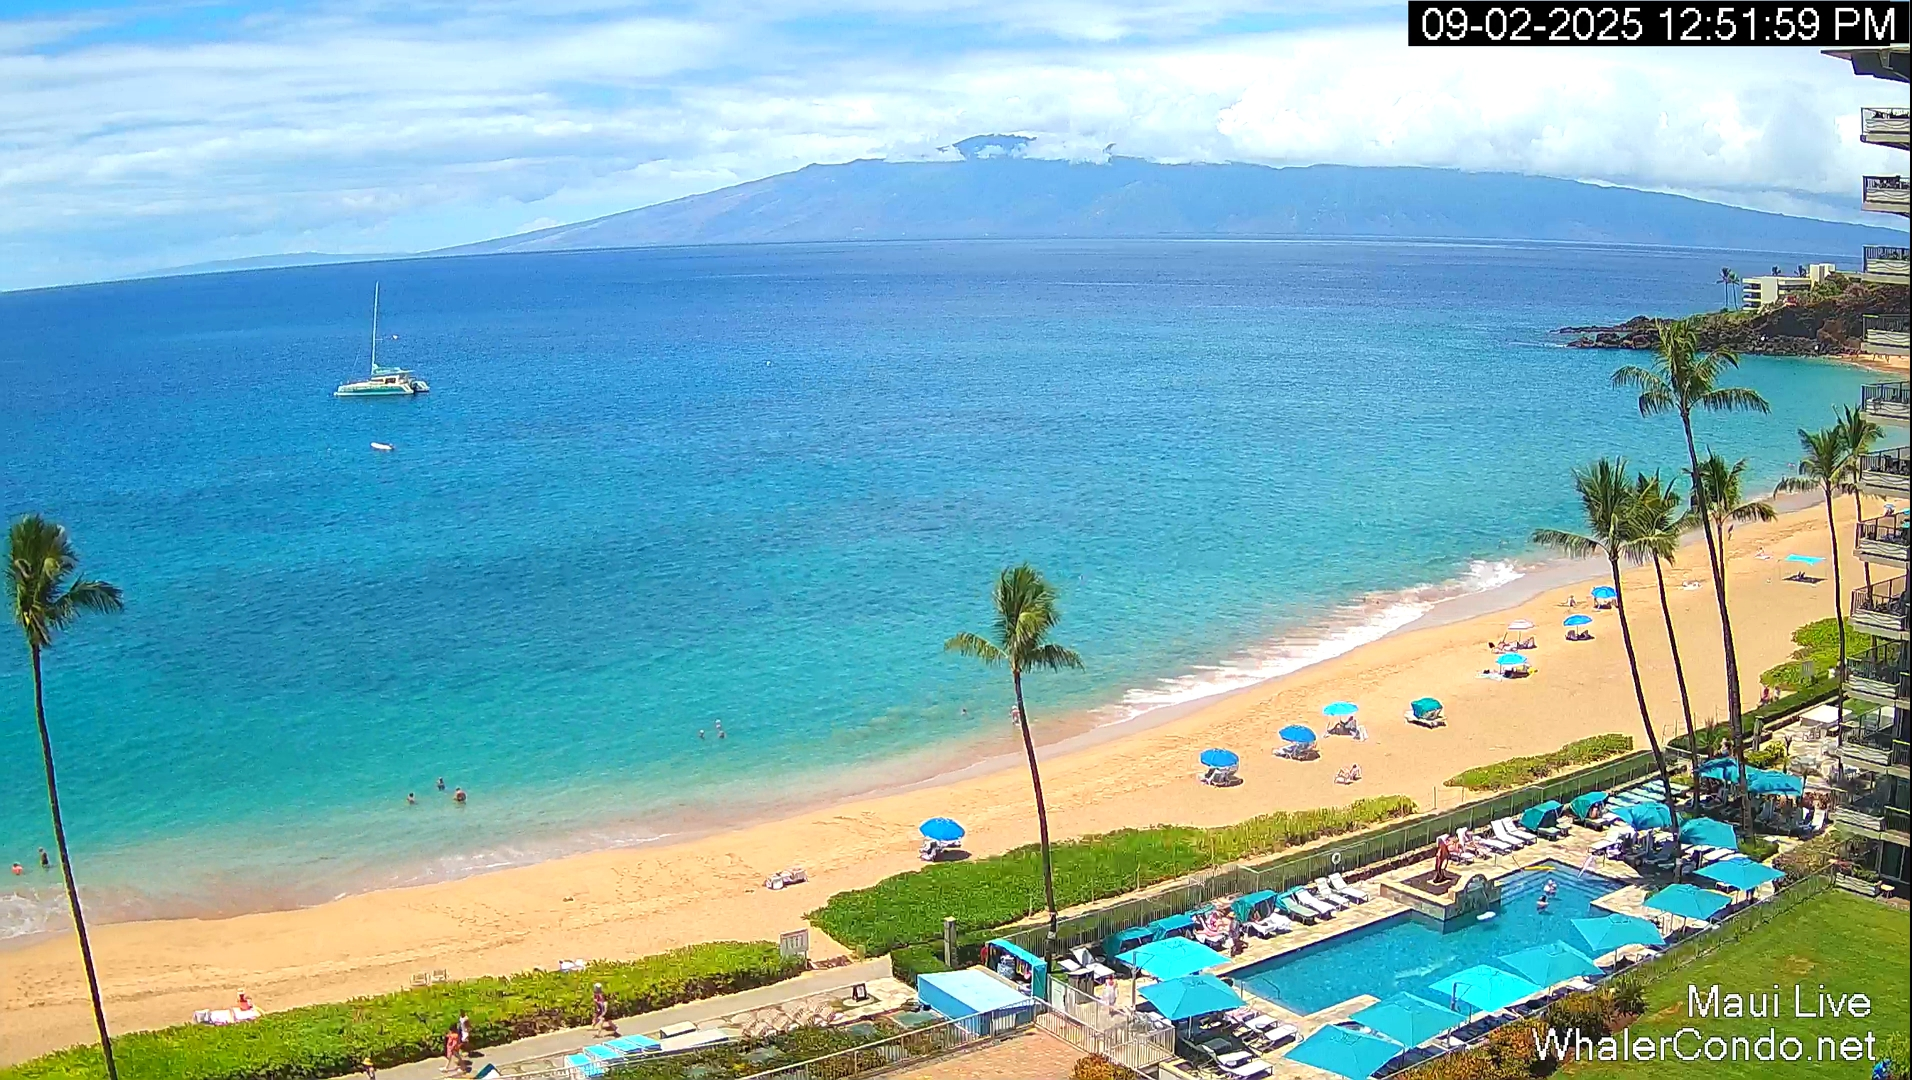boat: (333, 280, 430, 398)
person: (591, 992, 621, 1038), (440, 1024, 460, 1073), (457, 1009, 471, 1047), (236, 988, 253, 1011), (362, 1056, 376, 1080), (1536, 895, 1550, 914), (38, 847, 49, 868), (453, 787, 466, 803), (11, 862, 24, 876), (436, 777, 446, 791), (1773, 686, 1781, 703), (1567, 594, 1577, 607), (407, 793, 417, 804)
